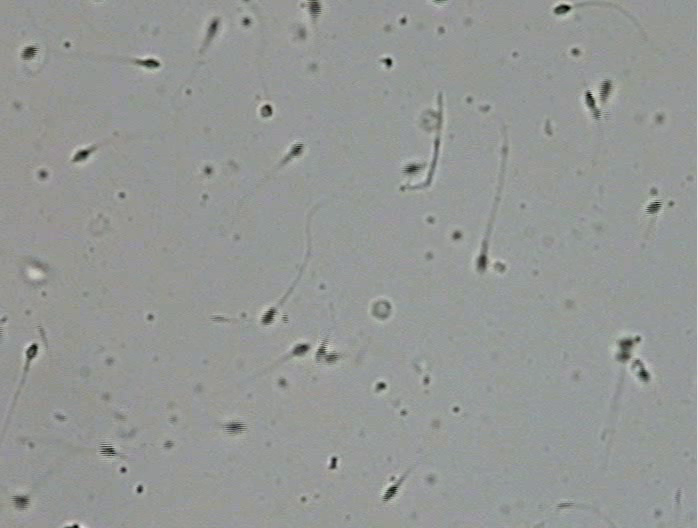Impurity: (370, 299, 391, 320)
S: (584, 90, 602, 121), (616, 338, 633, 363), (260, 306, 278, 326), (598, 78, 613, 101), (20, 45, 39, 61), (224, 421, 247, 434), (382, 485, 399, 502), (99, 441, 117, 457), (11, 495, 29, 510), (306, 1, 321, 19), (137, 58, 161, 69), (645, 199, 662, 214), (636, 367, 651, 384), (401, 163, 422, 175), (289, 142, 304, 158), (24, 343, 38, 360), (72, 149, 90, 162), (292, 343, 310, 356), (477, 253, 488, 273), (315, 344, 326, 363), (207, 19, 218, 37), (553, 4, 571, 15), (260, 104, 273, 117), (325, 352, 337, 361), (432, 1, 448, 5)
